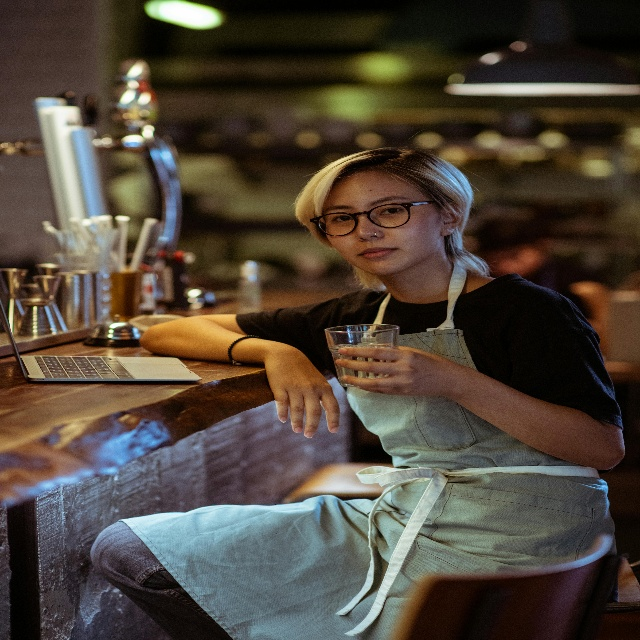Gafas: (309, 213, 441, 234)
Sin_guantes: (260, 337, 339, 439), (337, 343, 455, 407)
